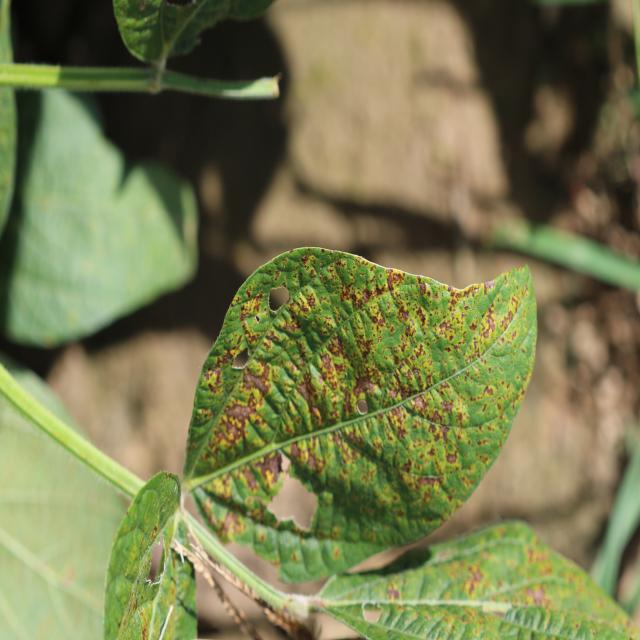Bacterial_Blight: (440, 279, 534, 429), (313, 442, 428, 533), (199, 372, 289, 476), (198, 458, 292, 533), (388, 410, 467, 477), (328, 264, 393, 329), (270, 525, 337, 582), (359, 321, 412, 380), (298, 361, 340, 424), (294, 293, 340, 348), (460, 278, 504, 326), (290, 358, 325, 415), (461, 315, 499, 366), (220, 402, 256, 430), (352, 374, 379, 403), (242, 369, 271, 395), (220, 510, 244, 539), (240, 294, 265, 320), (248, 310, 270, 334), (201, 367, 222, 391), (295, 292, 313, 315), (411, 394, 428, 414), (389, 271, 405, 288), (441, 398, 454, 415), (469, 320, 478, 332), (419, 282, 427, 295)
Soybean: (183, 247, 538, 586)
